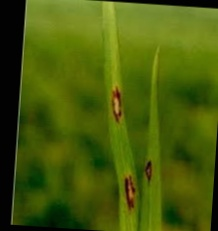Brown_Spot: (113, 169, 143, 205), (113, 81, 126, 120), (141, 152, 156, 181)
